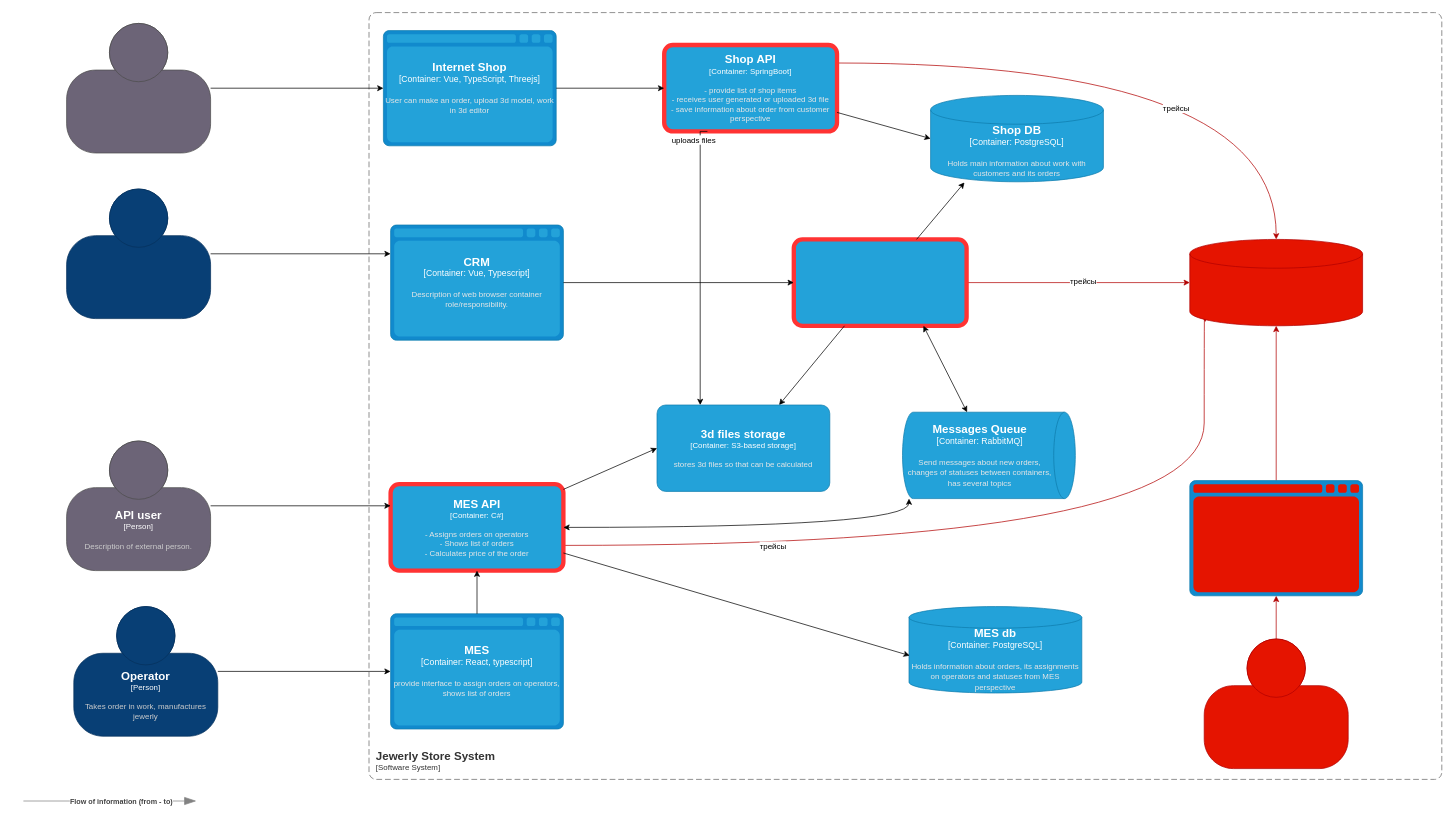
This 1454x825 diagram has some shape labels left out. Each missing label, with the centre of its shape:
CRM API [Container: SpringBoot] Description of container role/responsibility.: the point at 879,282
Customer [Person] Description of external person.: the point at 138,88
Jaeger [Container: ] Коллектор трейсов: the point at 1276,282
Jaeger UI [Container: ] Просмотр трейсов: the point at 1276,538
Seller [Person] Operates with order, confirms manufacturing for the user: the point at 138,253
Support [Person] Сотрудник поддержки: the point at 1275,703
